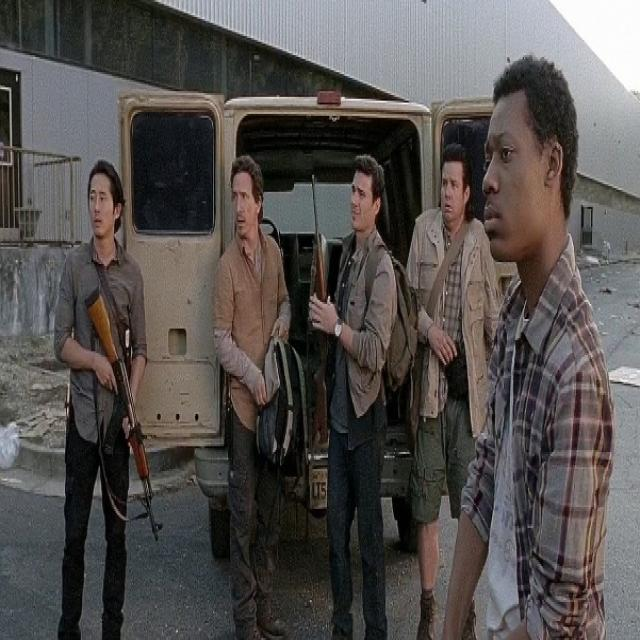rifle: (87, 286, 166, 551), (308, 169, 337, 450)
